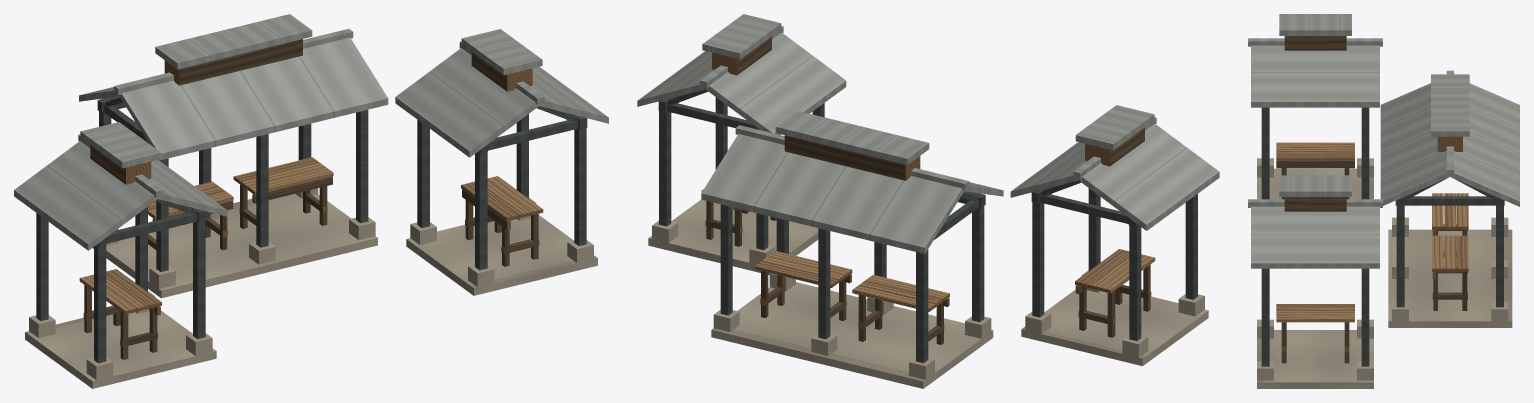
3 views of the same model, side by side, from view 1: azimuth 30°, elevation 25°; view 2: azimuth 150°, elevation 25°; view 3: azimuth 270°, elevation 25° (orthographic). The views are drawn at different scales.
Parts seen in each view (by area): view 1: yenagoa; view 2: yenagoa; view 3: yenagoa.
Part boxes in pixels (<box>): yenagoa: <box>14,14,608,388</box>; yenagoa: <box>637,14,1219,388</box>; yenagoa: <box>1248,14,1519,388</box>.
Bounding box in the file's own units: 6.57 × 2.5 × 3.43.
Materials: 1 (1 with a texture image).
